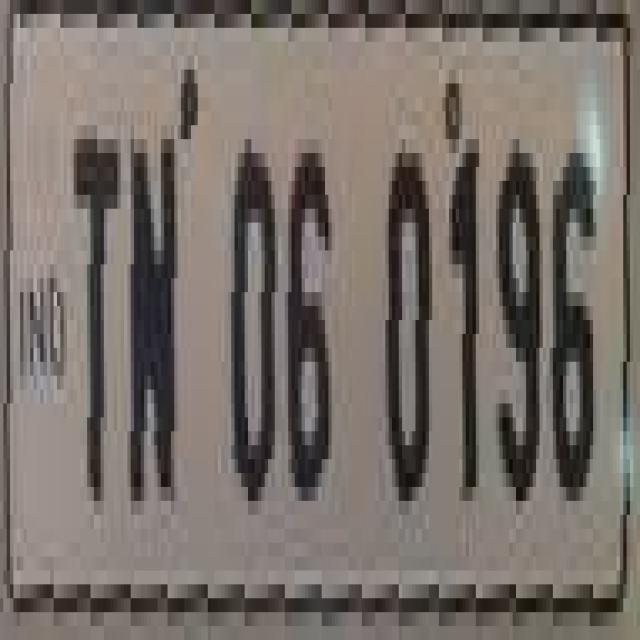license_plate: (0, 0, 627, 626)
